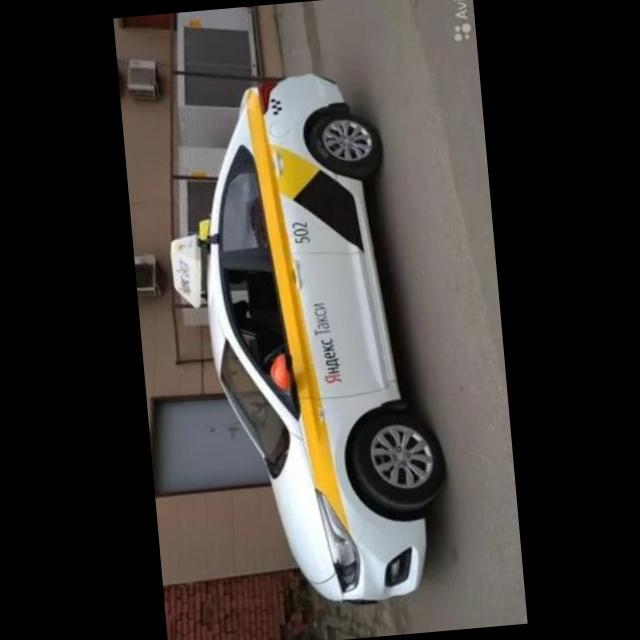taxi: (155, 65, 457, 619)
